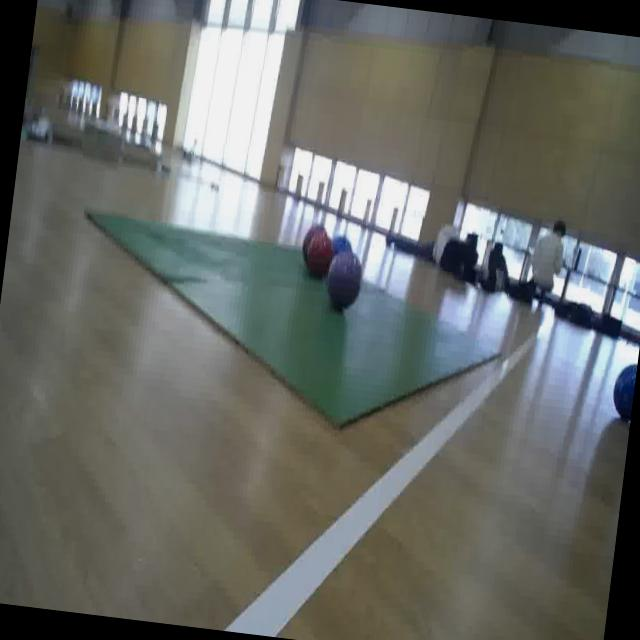blue_ball: (608, 358, 638, 427), (326, 230, 356, 280)
purple_ball: (322, 246, 366, 316)
red_ball: (304, 230, 334, 274), (299, 220, 328, 265)
